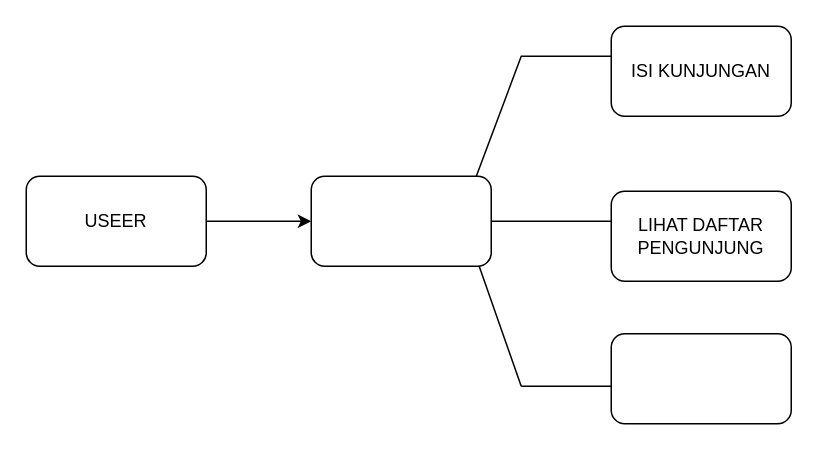
The diagram is 818 pixels wide and 450 high, and some of its shapes have lost their labels. Each missing label, with the centre of its shape:
"PENCARIAN BUKU" goes at pixel 700 378.
"PENGUNJUNG PERPUS" goes at pixel 400 220.
